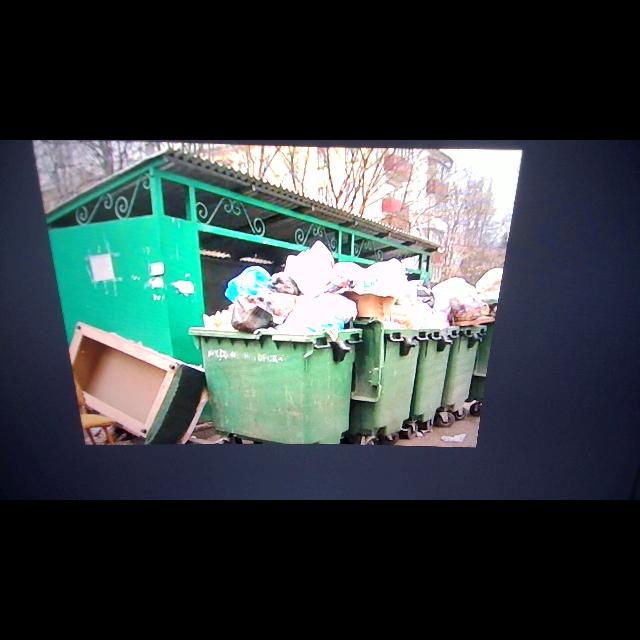Trash_Can_Full: (189, 238, 363, 444), (352, 259, 421, 435), (411, 280, 461, 422), (442, 276, 488, 407)
